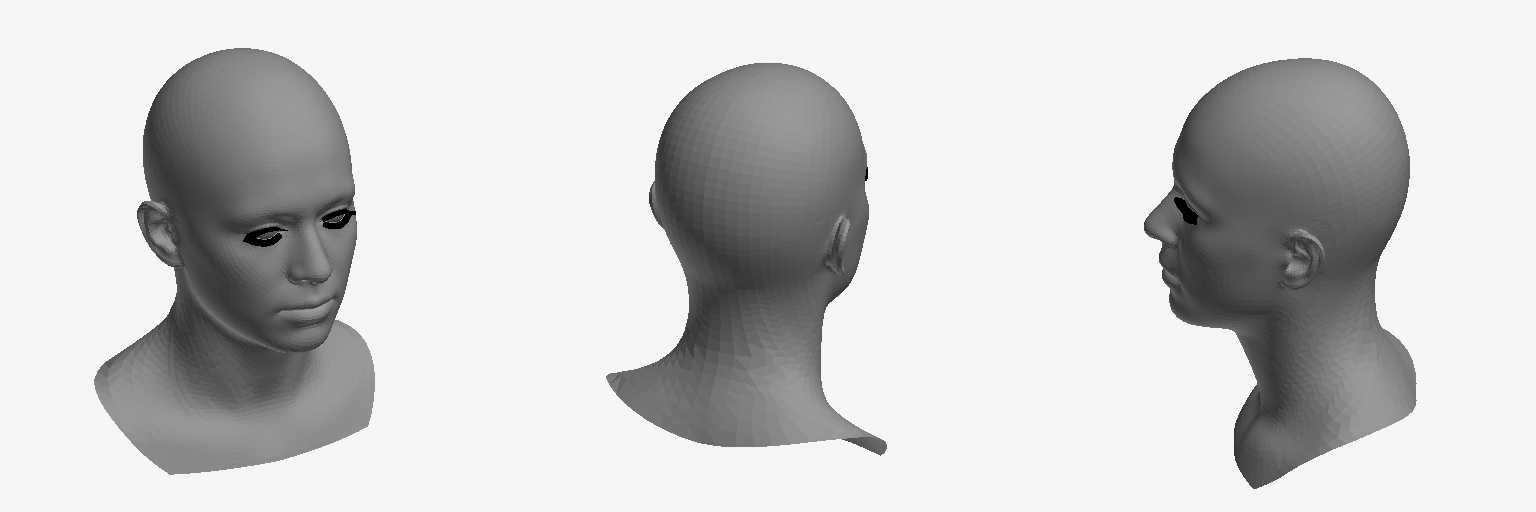
The model's file is identity031.obj.
The picture shows the model from 3 angles: view 1: azimuth 30°, elevation 25°; view 2: azimuth 150°, elevation 25°; view 3: azimuth 270°, elevation 25°; orthographic projection.
Size of the model in its own units: 24.74 by 33.83 by 22.26.